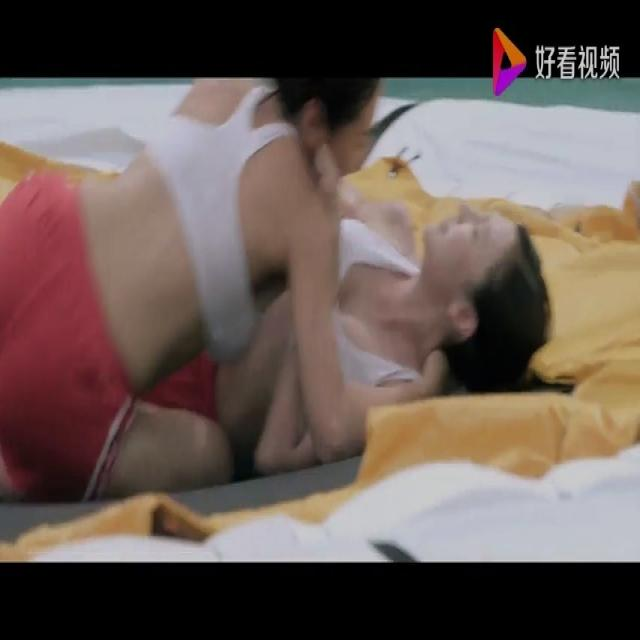fight: (0, 79, 553, 505)
